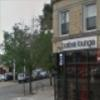cars: (18, 72, 32, 84)
